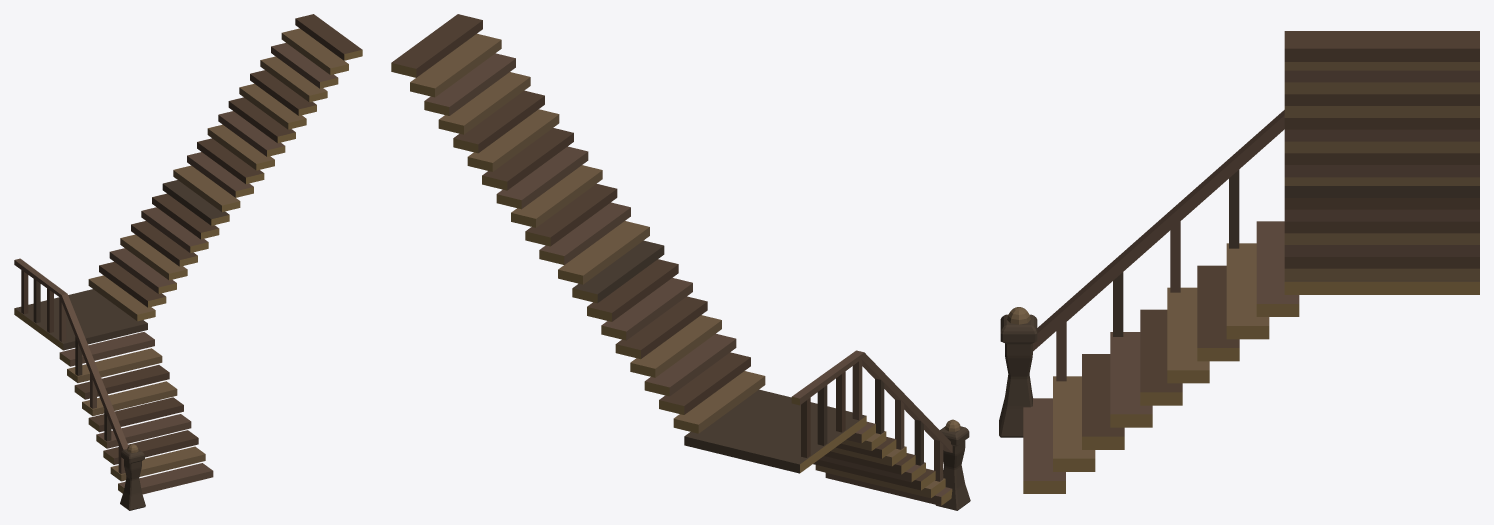
File: Stair_3B_6m.fbx
The picture shows the model from 3 angles, left to right: view 1: azimuth 30°, elevation 25°; view 2: azimuth 150°, elevation 25°; view 3: azimuth 270°, elevation 25°; orthographic projection. The views are drawn at different scales.
Visible parts, largest first — view 1: polySurface2923; view 2: polySurface2923; view 3: polySurface2923.
Part boxes in pixels (x1,y1,x2,y2): polySurface2923: (14, 14, 362, 510); polySurface2923: (391, 14, 970, 510); polySurface2923: (999, 31, 1479, 493).
Bounding box in the file's own units: 576 × 606 × 394.
